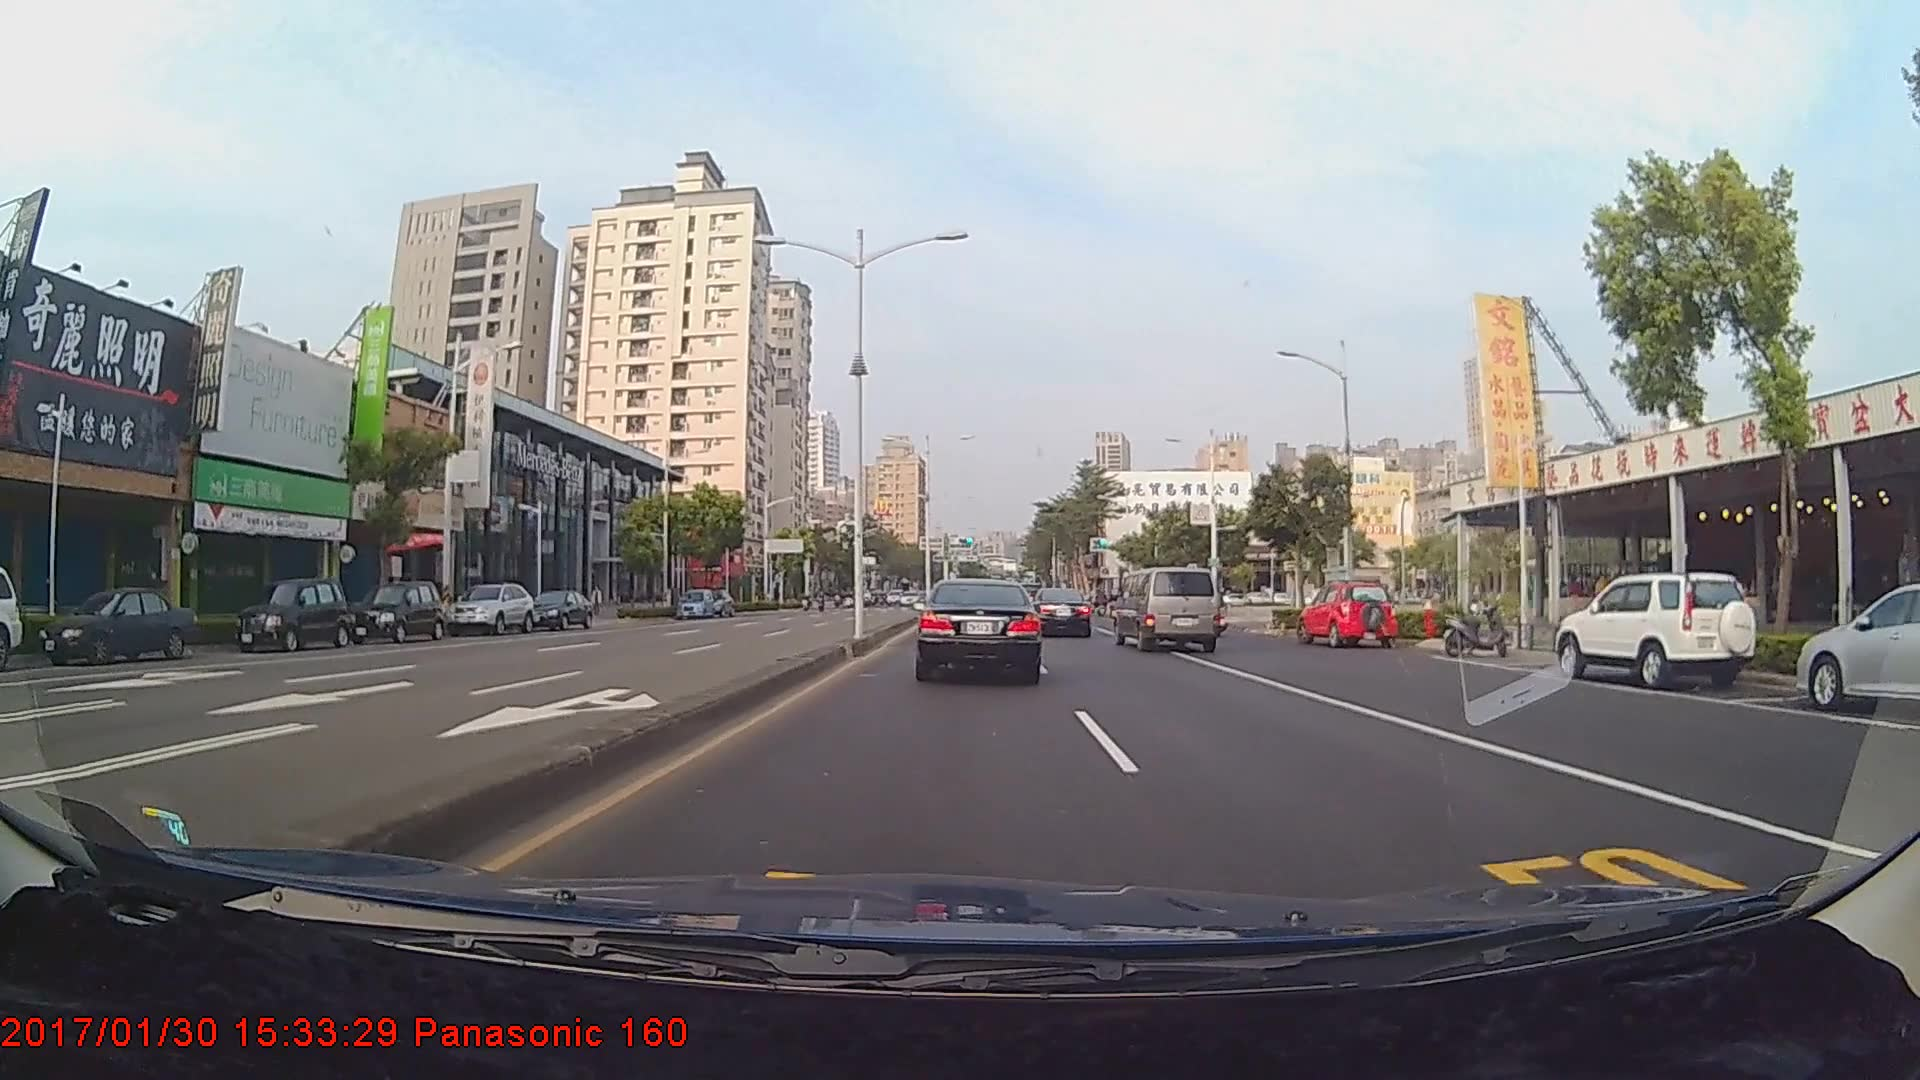vehicle: (1560, 567, 1750, 688), (1795, 578, 1920, 717), (32, 585, 200, 666), (915, 576, 1040, 683), (1112, 566, 1221, 653), (232, 576, 351, 651), (1300, 580, 1396, 649), (344, 582, 444, 644), (446, 583, 535, 636), (1031, 585, 1092, 638), (527, 588, 595, 632), (674, 587, 715, 618)
